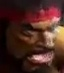ryu: (7, 3, 61, 72)
